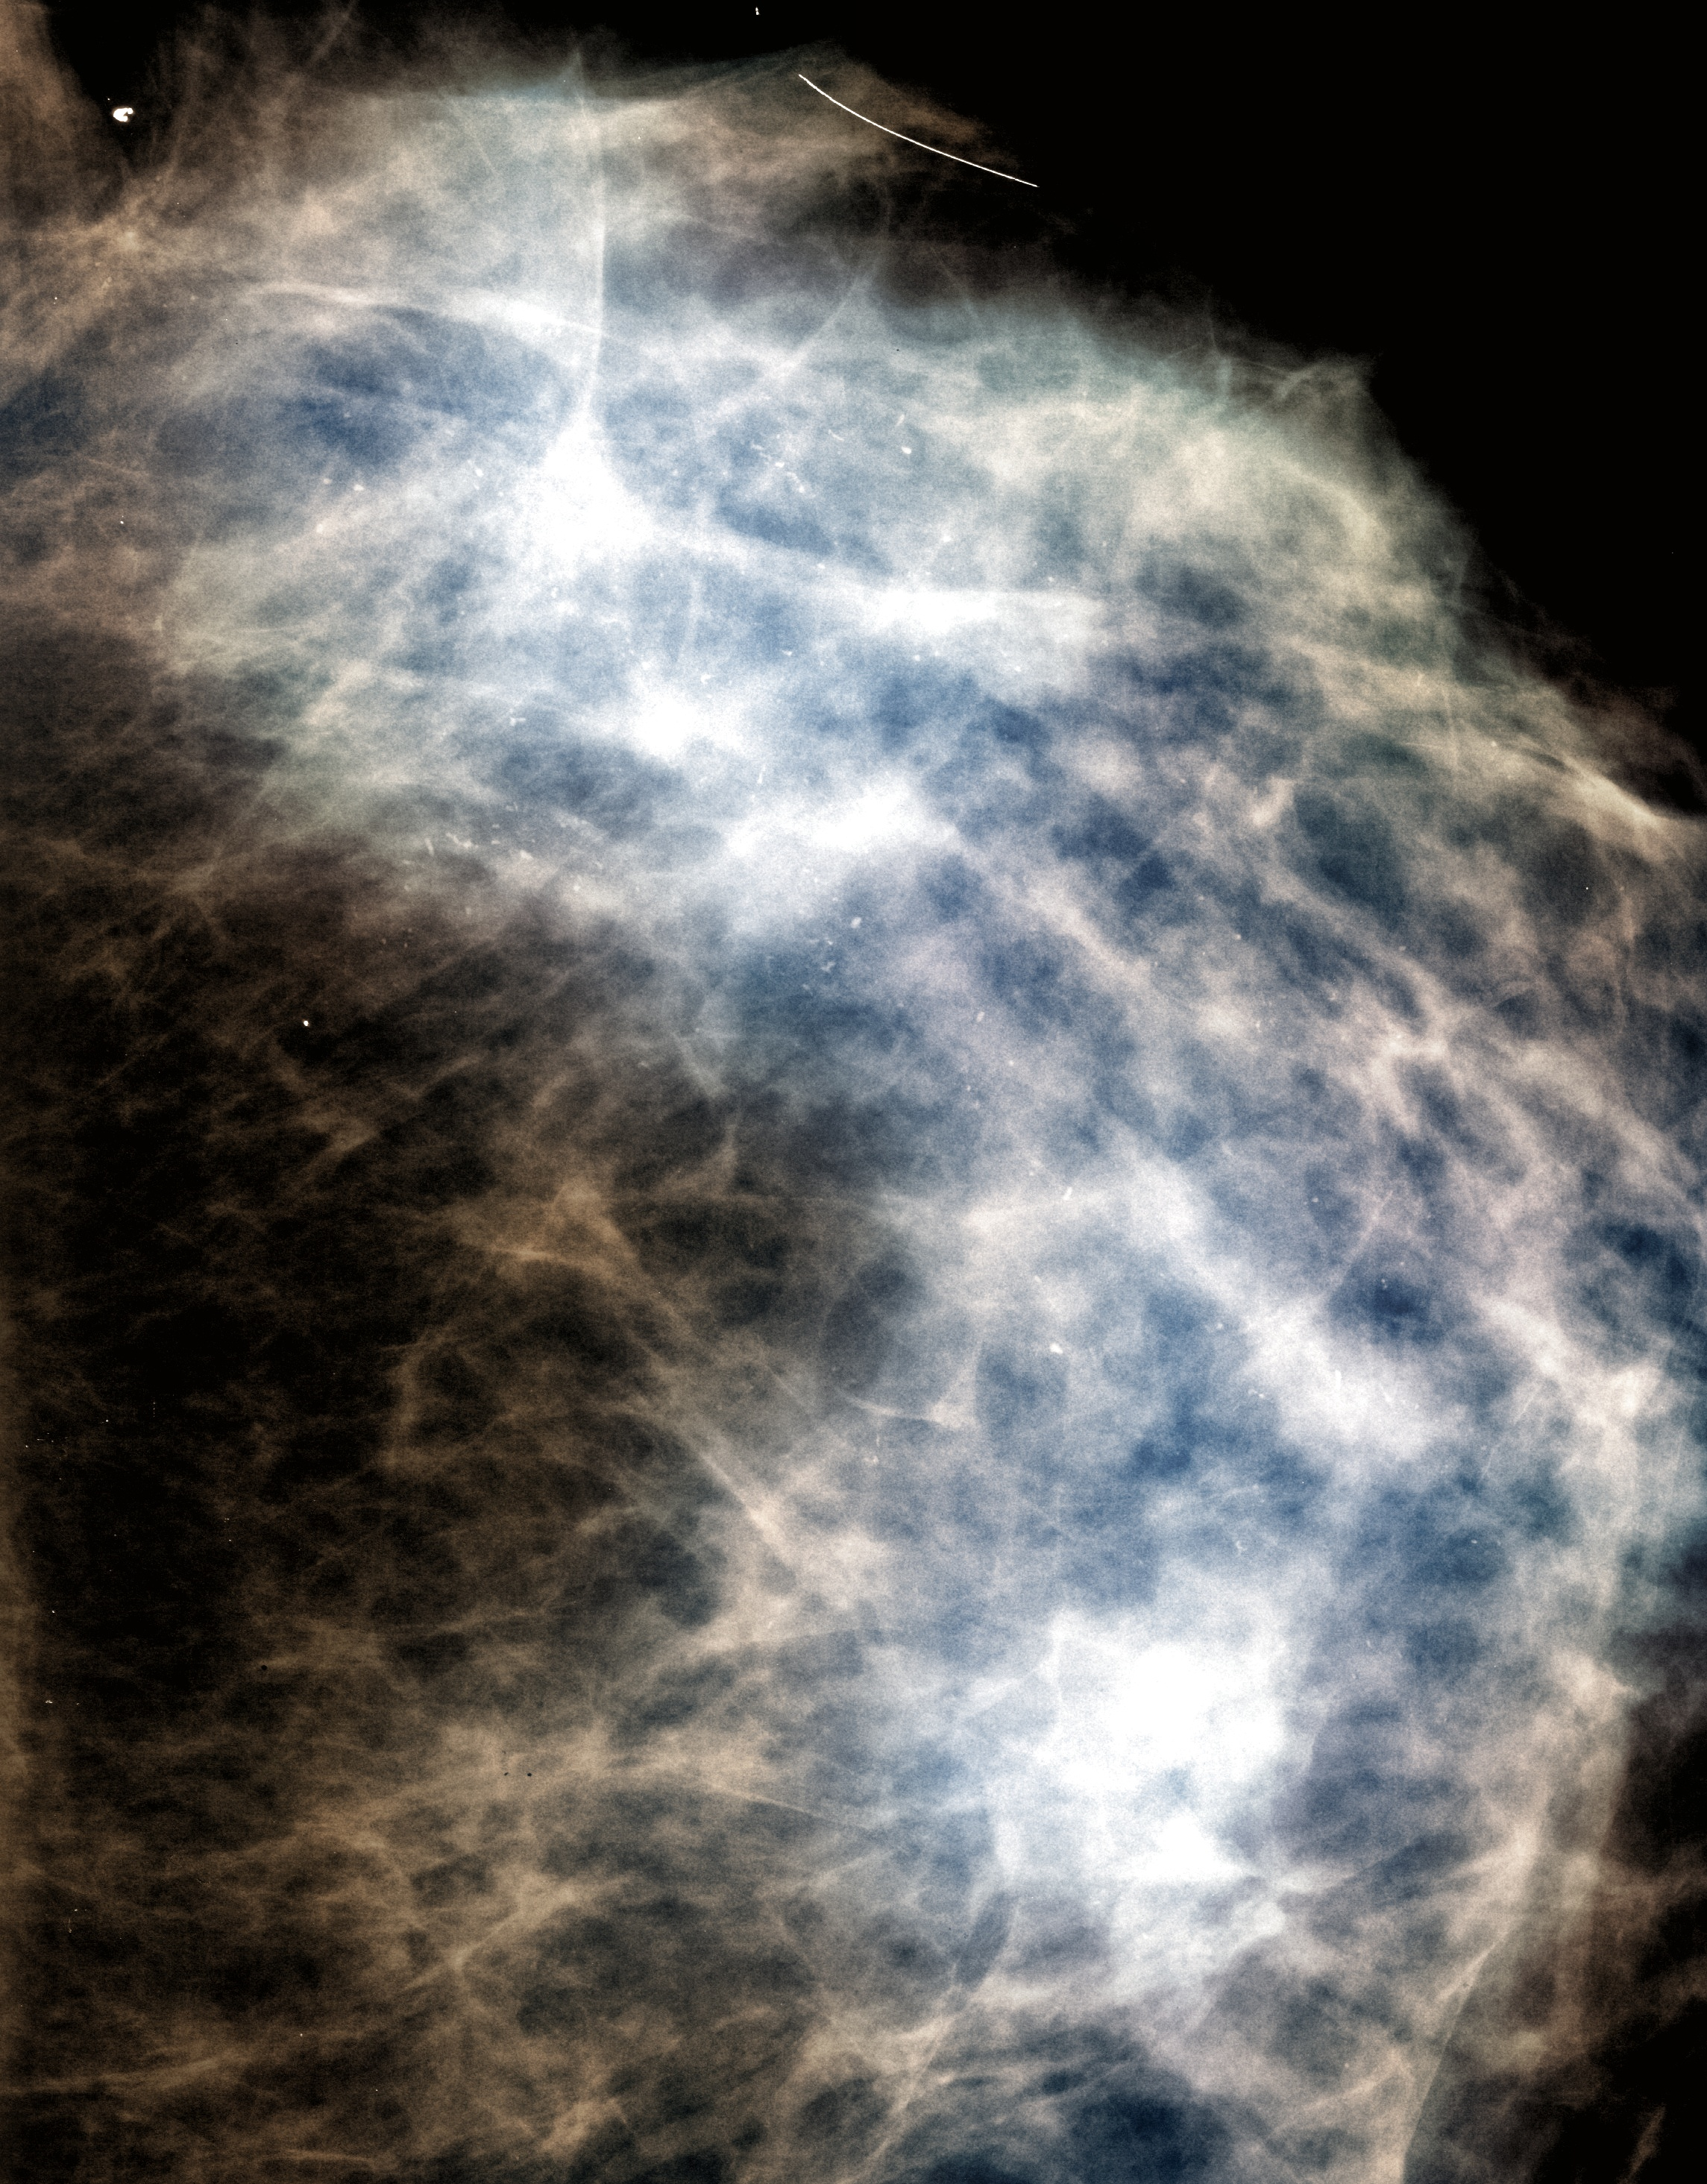tumor: (0, 0, 1707, 2184)
